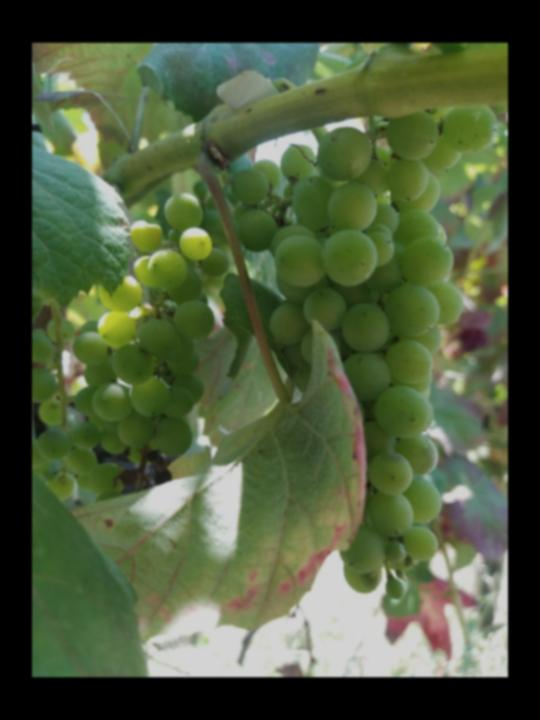grape: (228, 104, 497, 598), (71, 194, 228, 495)
